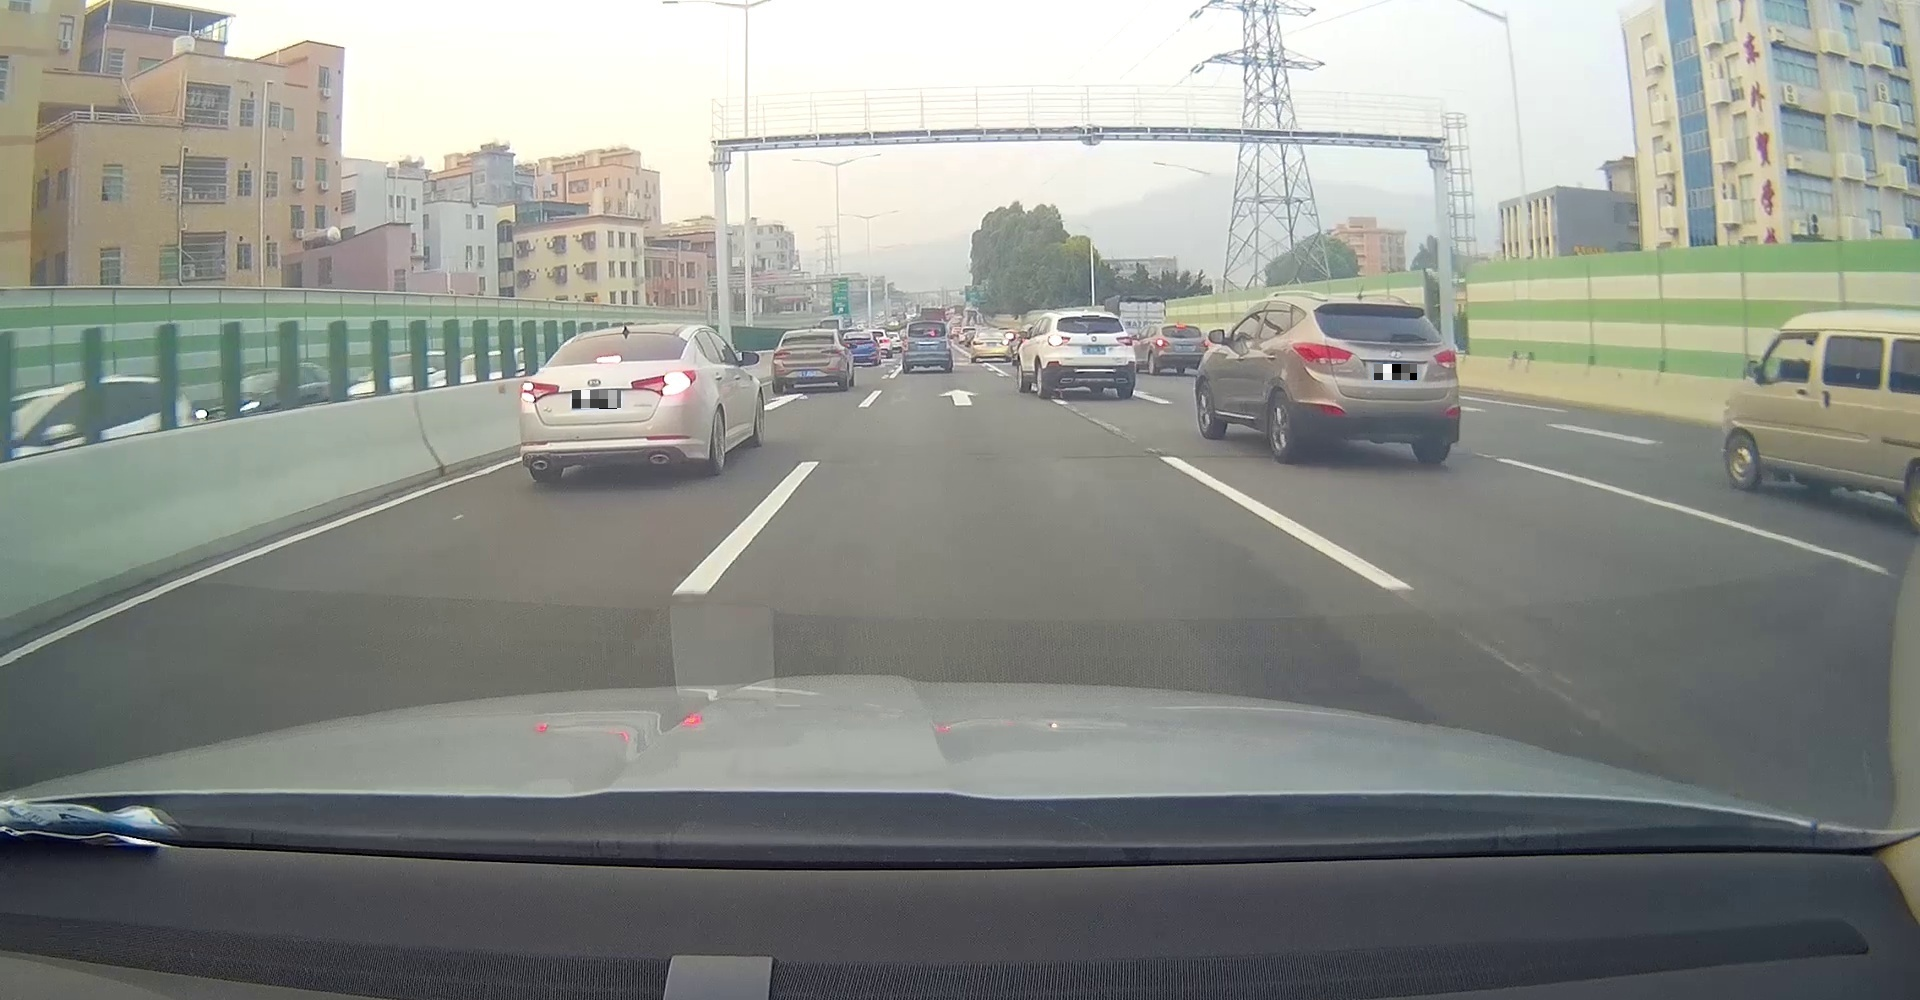L_light: (1291, 341, 1352, 365), (521, 381, 560, 404), (1048, 335, 1070, 346), (1156, 339, 1170, 346), (775, 352, 790, 357), (903, 338, 908, 350), (973, 340, 983, 346)
R_light: (632, 371, 695, 396), (1432, 348, 1457, 368), (822, 348, 842, 355), (1116, 336, 1131, 346), (1082, 313, 1100, 319), (945, 335, 951, 349), (1200, 339, 1208, 346), (1001, 340, 1010, 346)
T_light: (596, 354, 622, 364), (1361, 303, 1385, 310), (1175, 324, 1185, 327), (803, 332, 817, 335), (921, 322, 932, 325), (987, 330, 996, 332)
day-brake: (518, 324, 698, 481)
day-left: (1045, 311, 1137, 397), (1156, 324, 1209, 376)
day-no: (1291, 296, 1462, 462), (771, 327, 844, 393), (902, 320, 952, 373)
day-right: (971, 329, 1010, 362)
plate_1: (571, 390, 621, 409)
plate_2: (1374, 364, 1417, 379)
